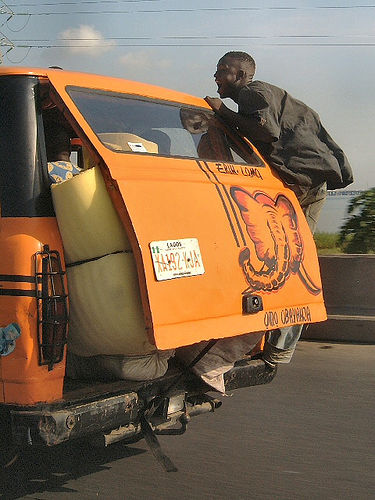without_mask: (212, 50, 258, 101)
